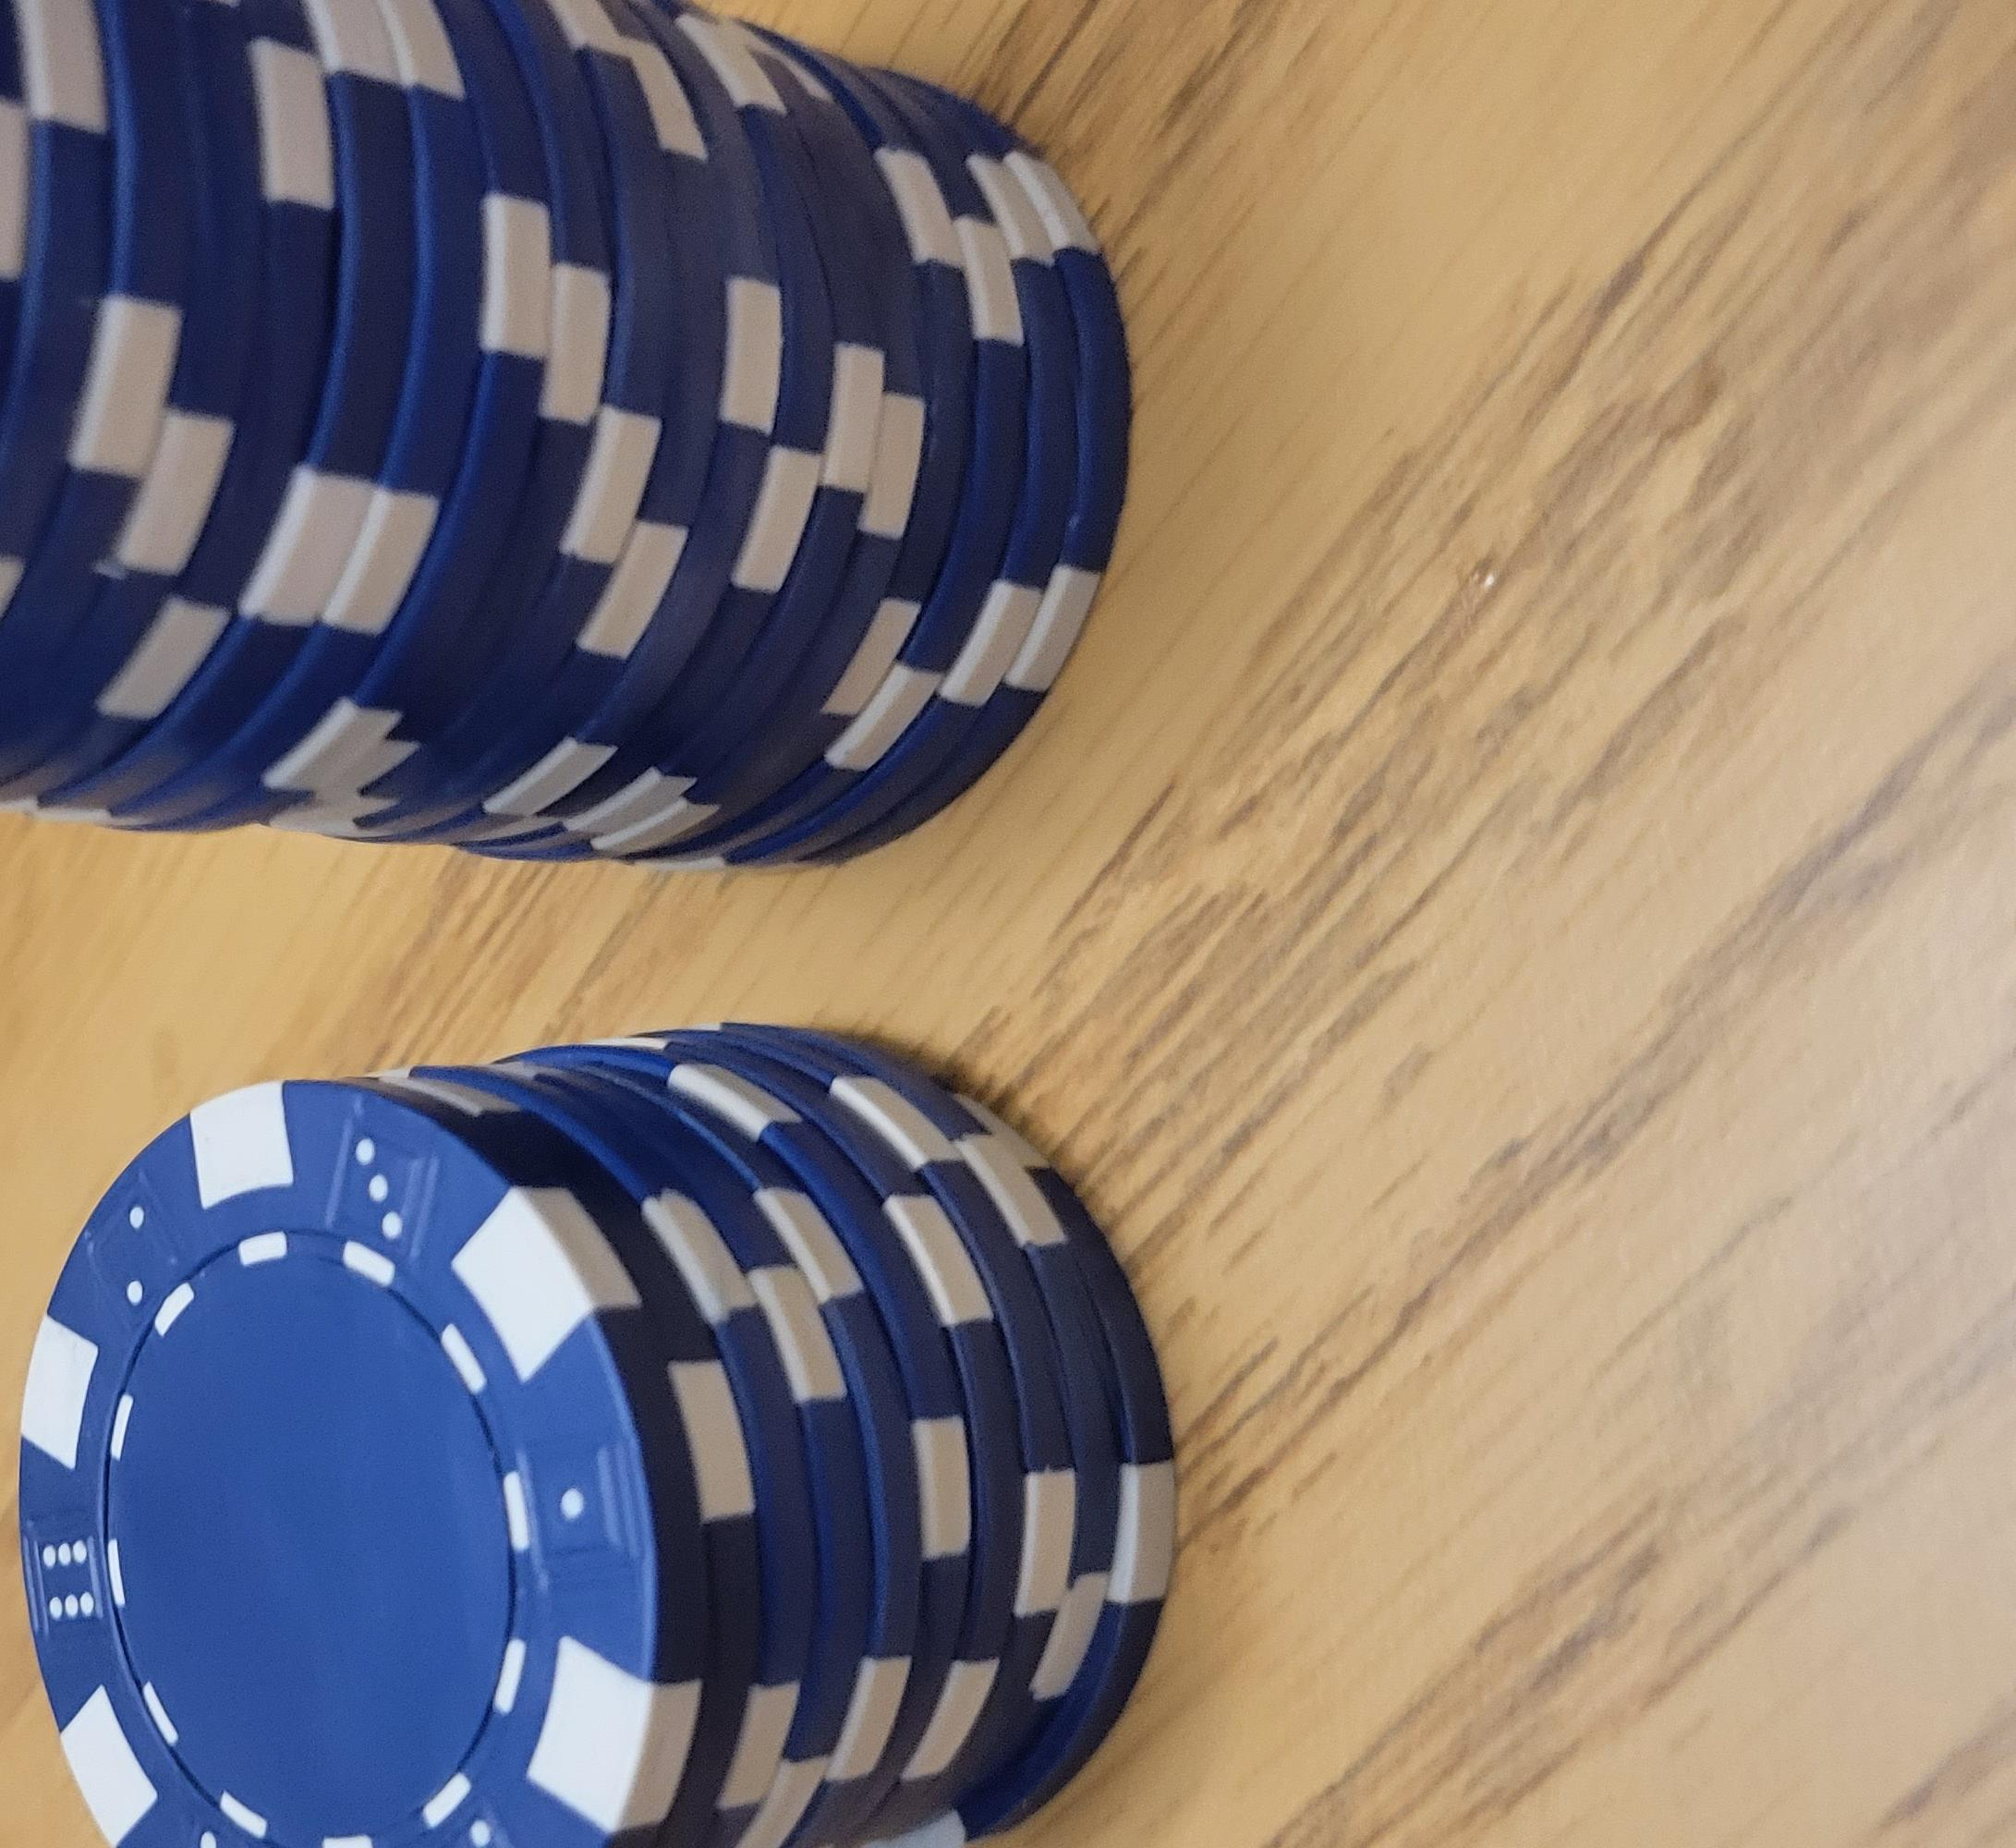Chip: (2, 135, 1085, 1848)
